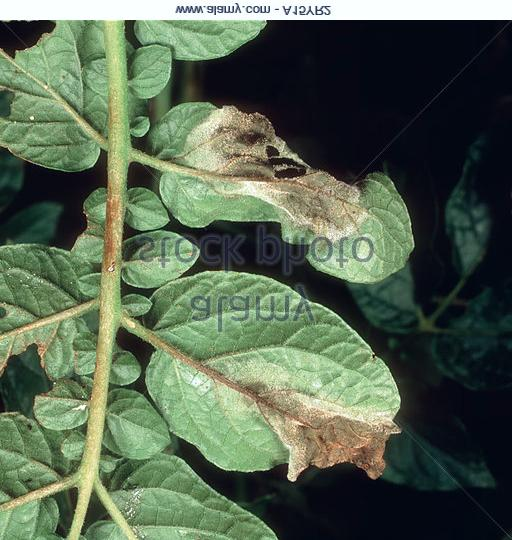Tomato leaf late blight: (144, 269, 413, 487), (139, 100, 423, 290)
